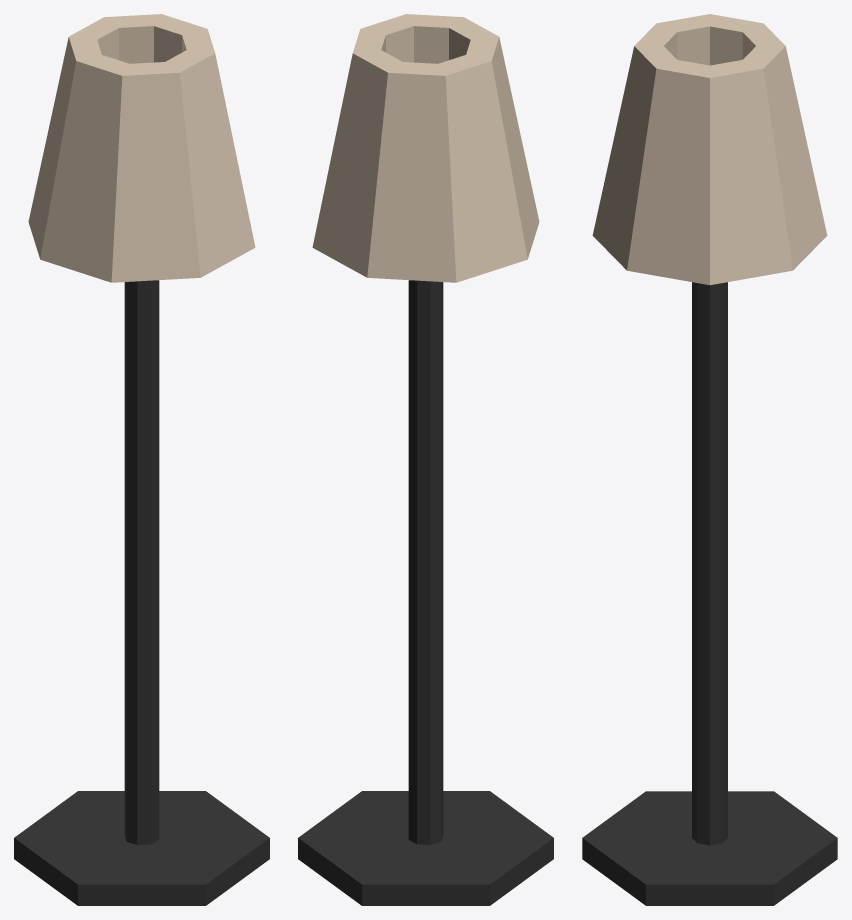
File: Lamp.fbx
3 views of the same model, side by side, from view 1: azimuth 30°, elevation 25°; view 2: azimuth 150°, elevation 25°; view 3: azimuth 270°, elevation 25° (orthographic).
Parts seen in each view (by area): view 1: Lamp; view 2: Lamp; view 3: Lamp.
Part boxes in pixels (box(x1,y1,x2,y2)): Lamp: box(14, 14, 269, 905); Lamp: box(298, 14, 553, 905); Lamp: box(582, 14, 837, 905).
Size of the model in its own units: 0.3869 by 1.48 by 0.4211.
